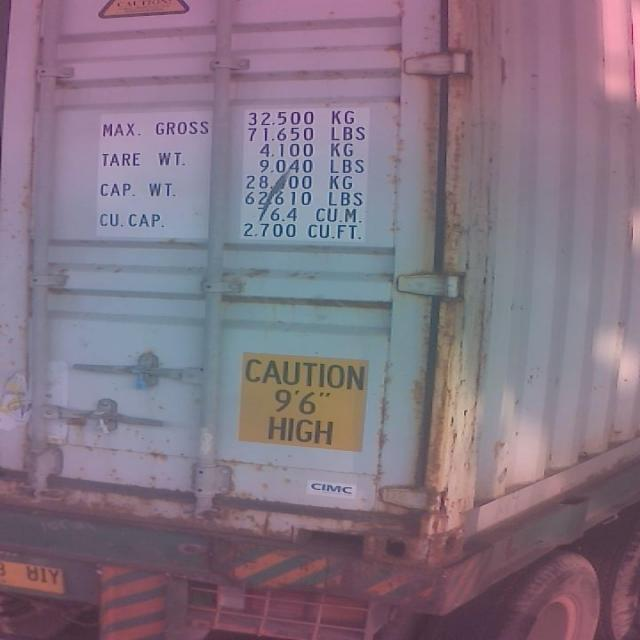seal: (90, 404, 120, 436), (130, 363, 159, 390)
